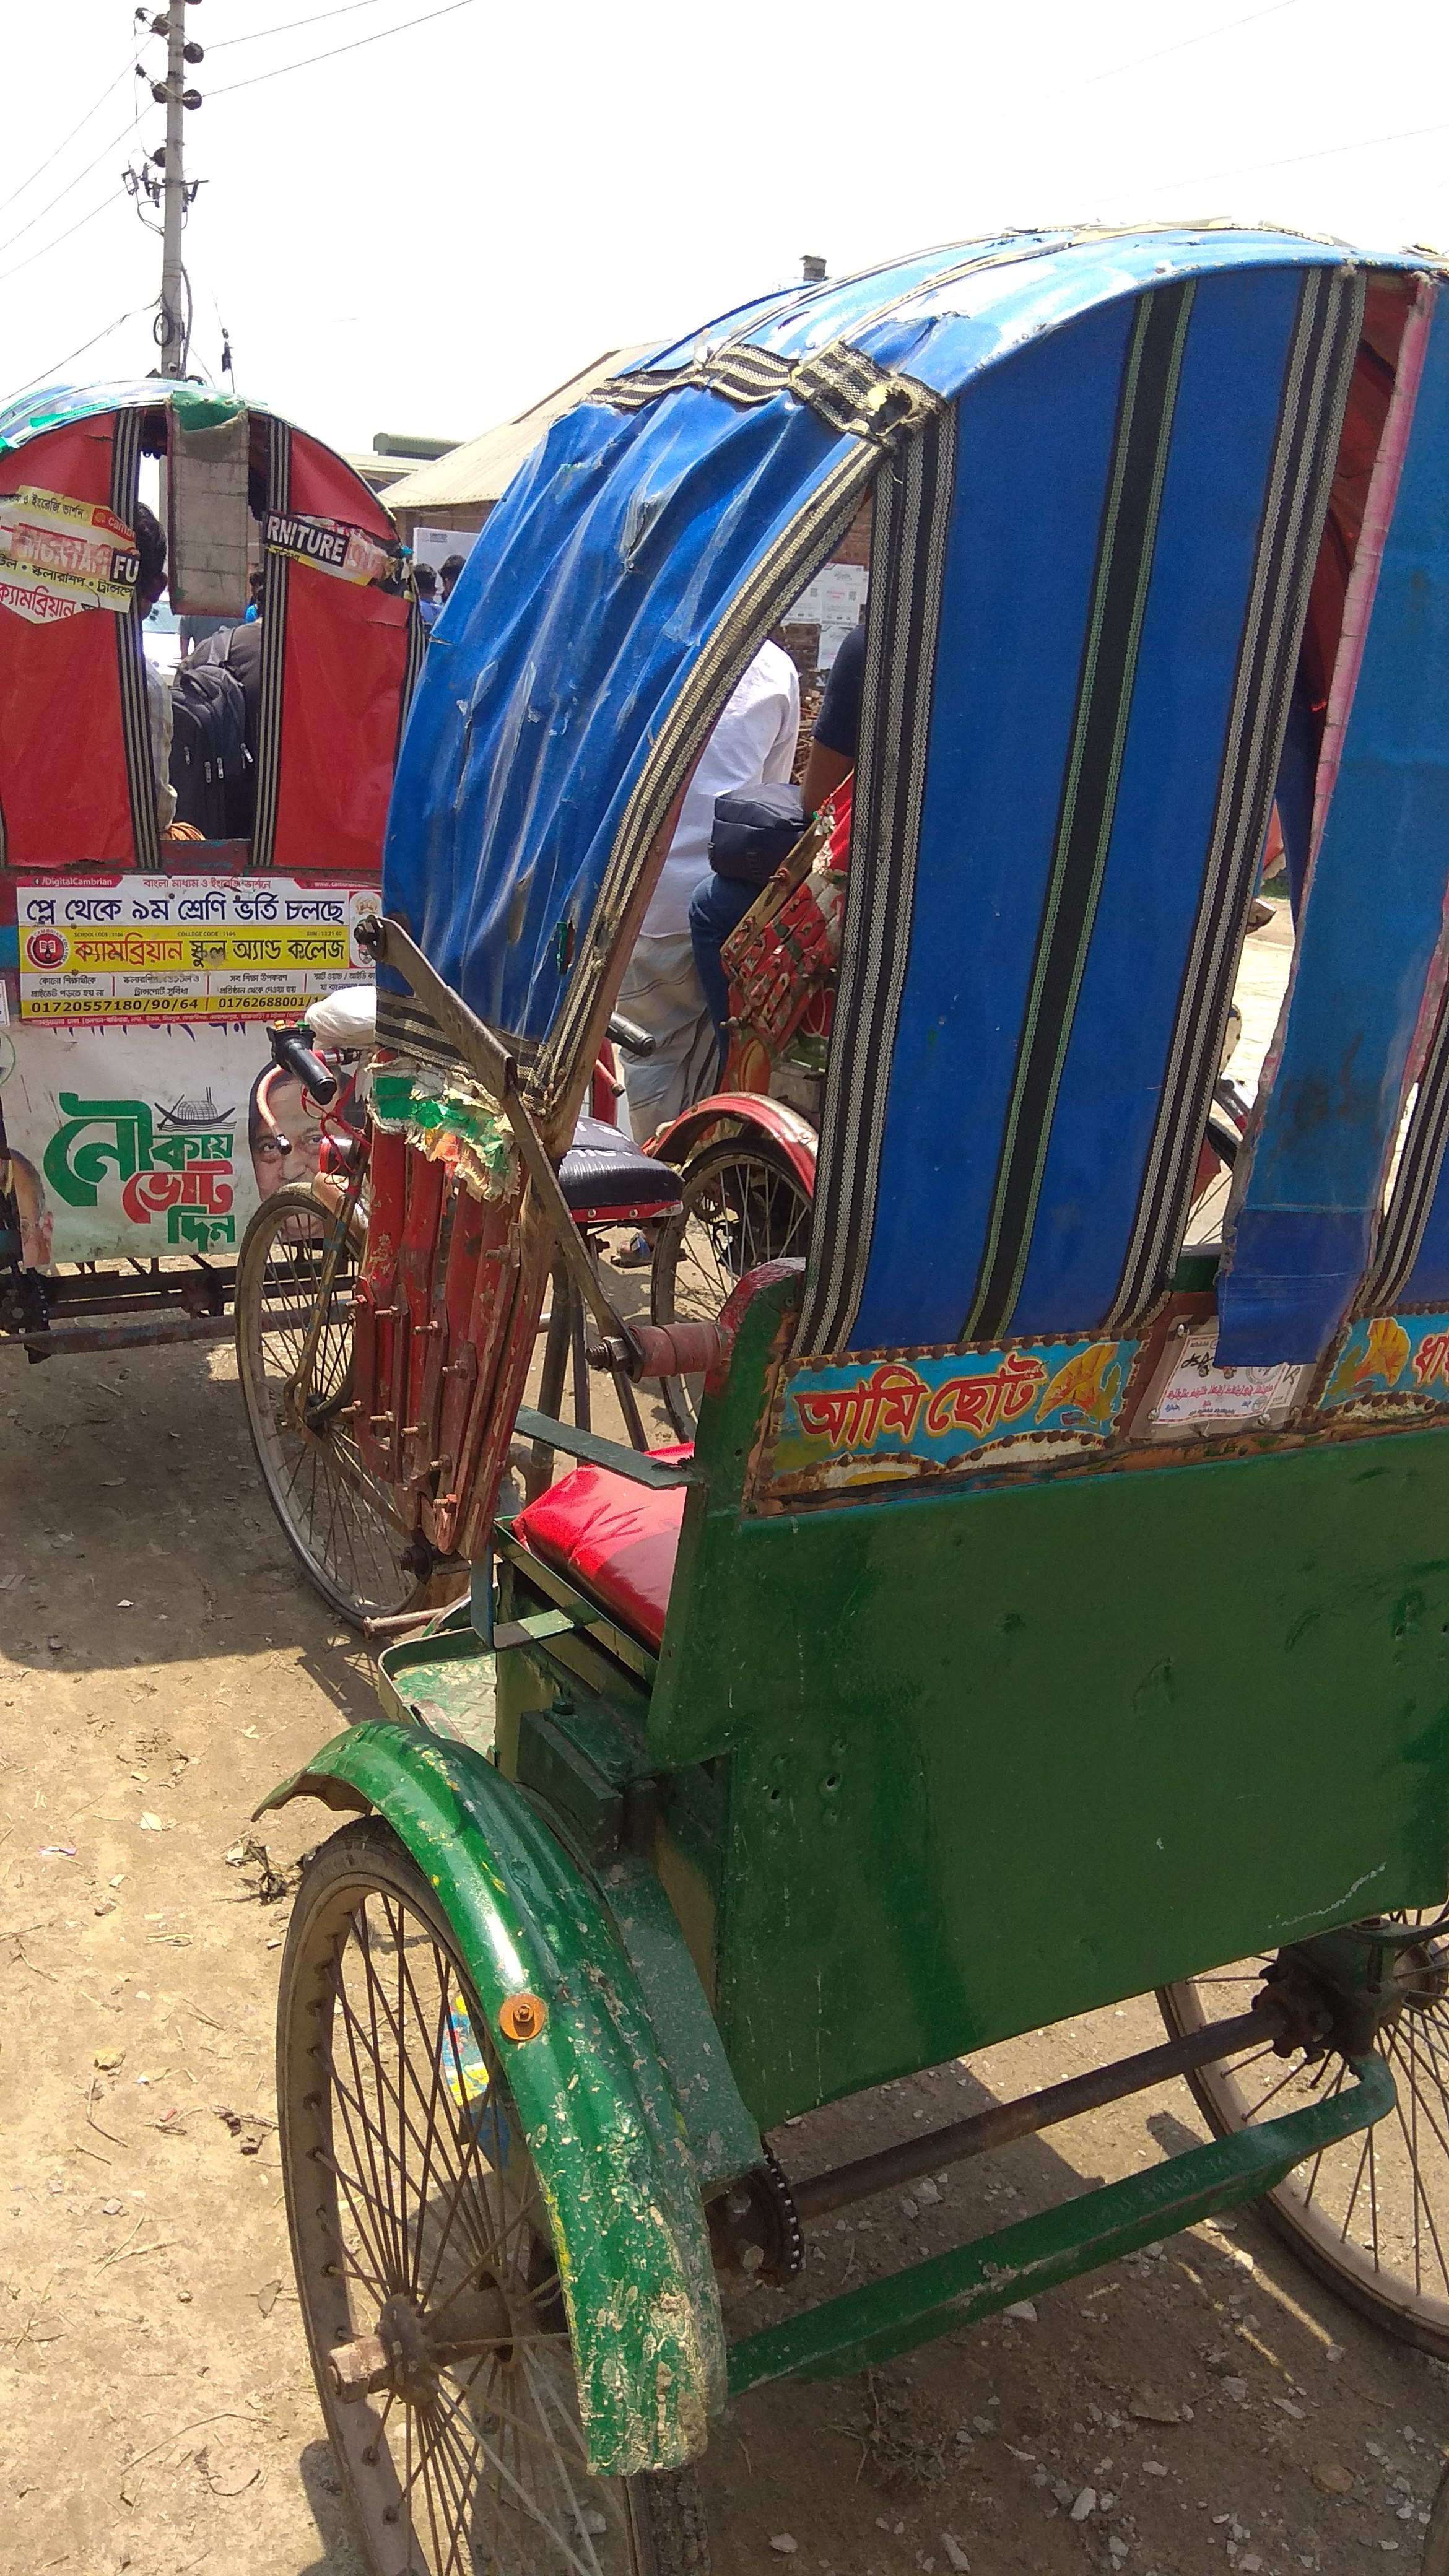Rickshaw: (334, 166, 1447, 2468), (12, 345, 464, 1384)
